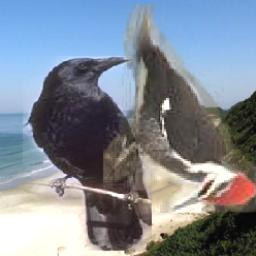Crow: (24, 57, 153, 252)
Woodpecker: (103, 4, 256, 213)
